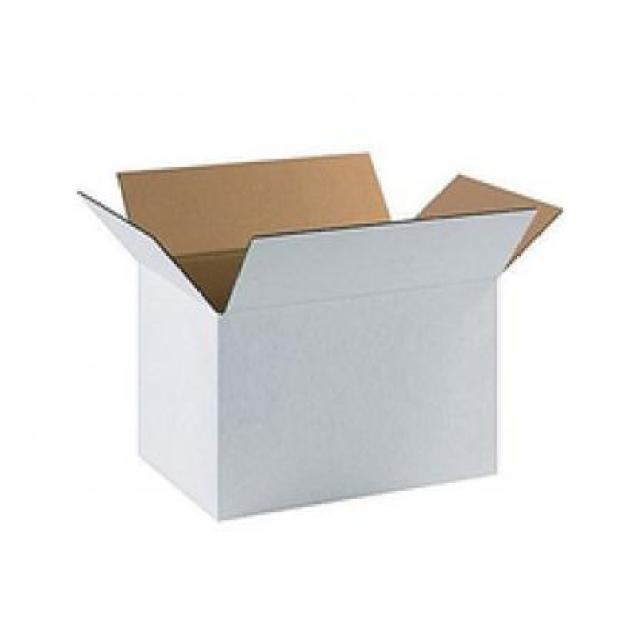box: (71, 140, 577, 532)
